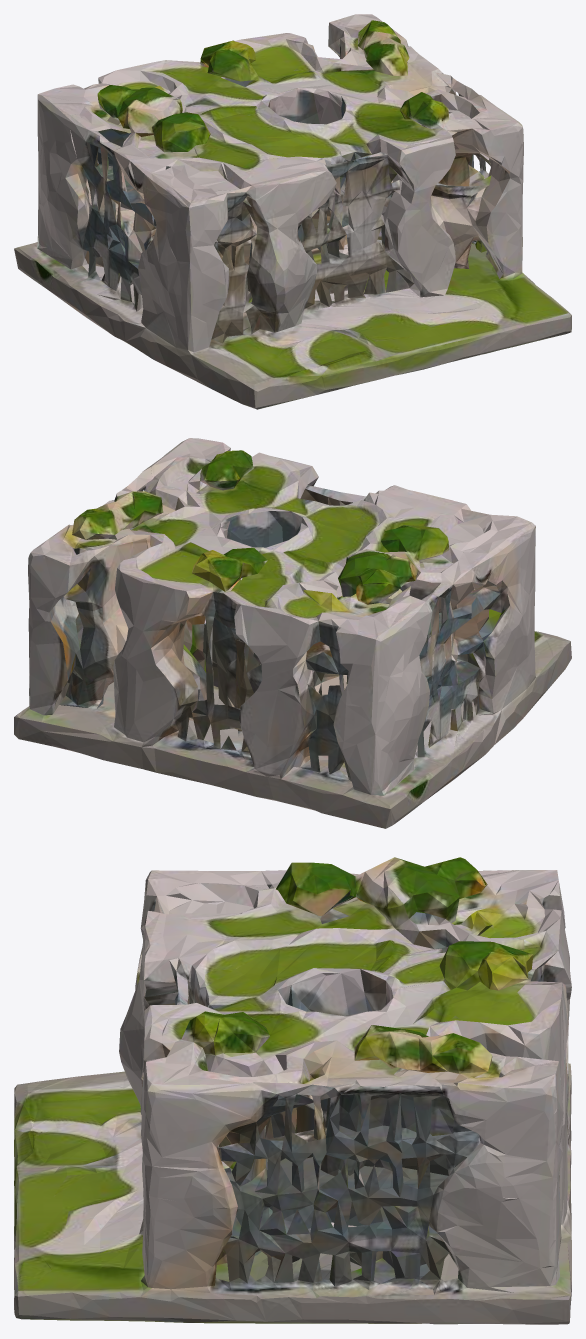
The model's file is national-taichung-theater.glb.
The picture shows the model from 3 angles, top to bottom: view 1: azimuth 30°, elevation 25°; view 2: azimuth 150°, elevation 25°; view 3: azimuth 270°, elevation 25°; orthographic projection. The views are drawn at different scales.
Parts seen in each view (by area): view 1: logan-textured.obj; view 2: logan-textured.obj; view 3: logan-textured.obj.
Boxes of the visible parts, box(x1,y1,x2,y2) form: logan-textured.obj: box(14, 14, 571, 409); logan-textured.obj: box(14, 438, 571, 828); logan-textured.obj: box(14, 857, 571, 1324).
Bounding box in the file's own units: 1 × 0.5317 × 0.9941.
Materials: 1 (1 with a texture image).
